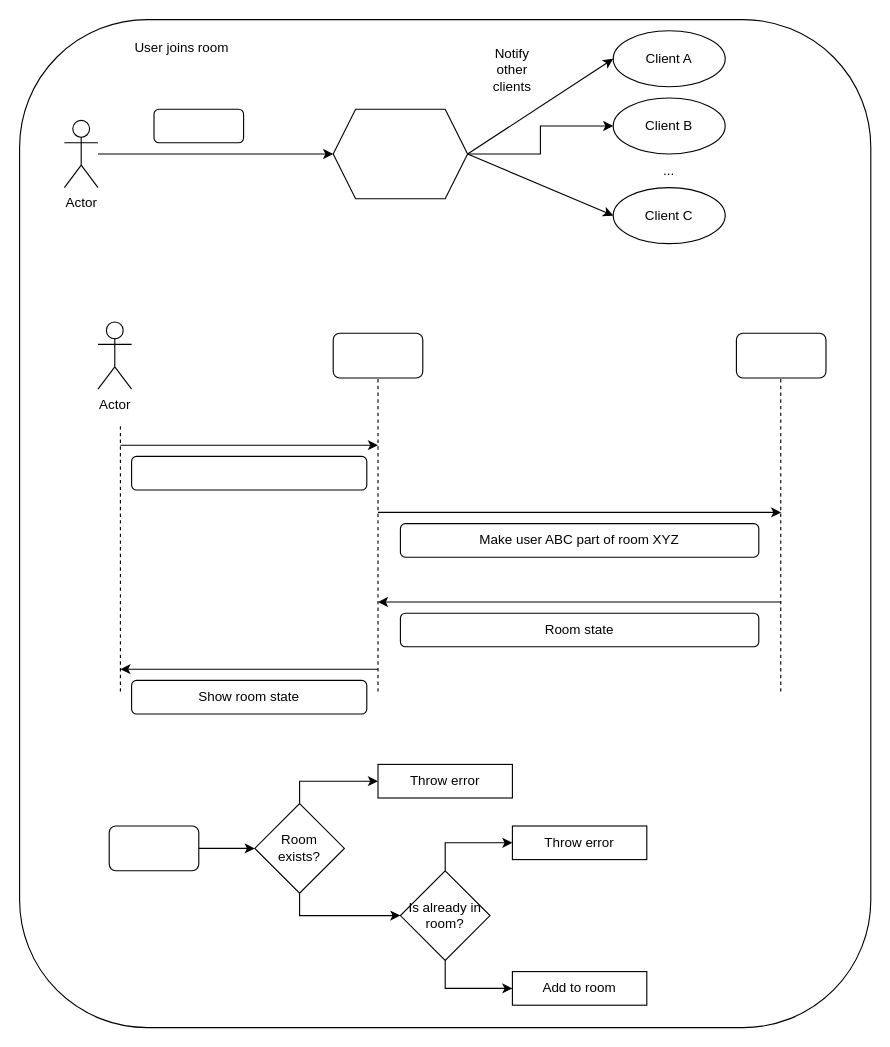
Image size: 890x1047. Some labels were removed from this diagram. The box of each missing label's shape, as (x1, y1, x2, y2) in pixels:
APP: (332, 108, 468, 199)
BE: (735, 332, 826, 378)
FE: (332, 332, 423, 378)
Join room XYZ: (153, 108, 244, 143)
Join room XYZ as user ABC: (130, 455, 367, 490)
START: (108, 825, 199, 871)
